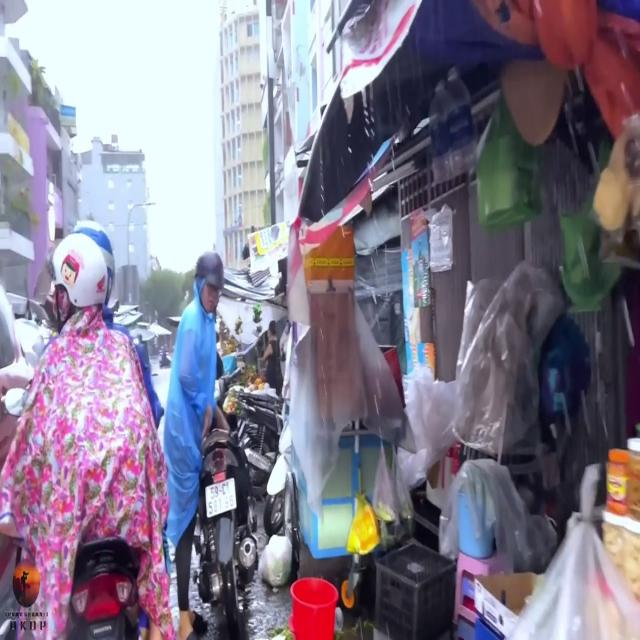bien_trang: (201, 480, 239, 520)
